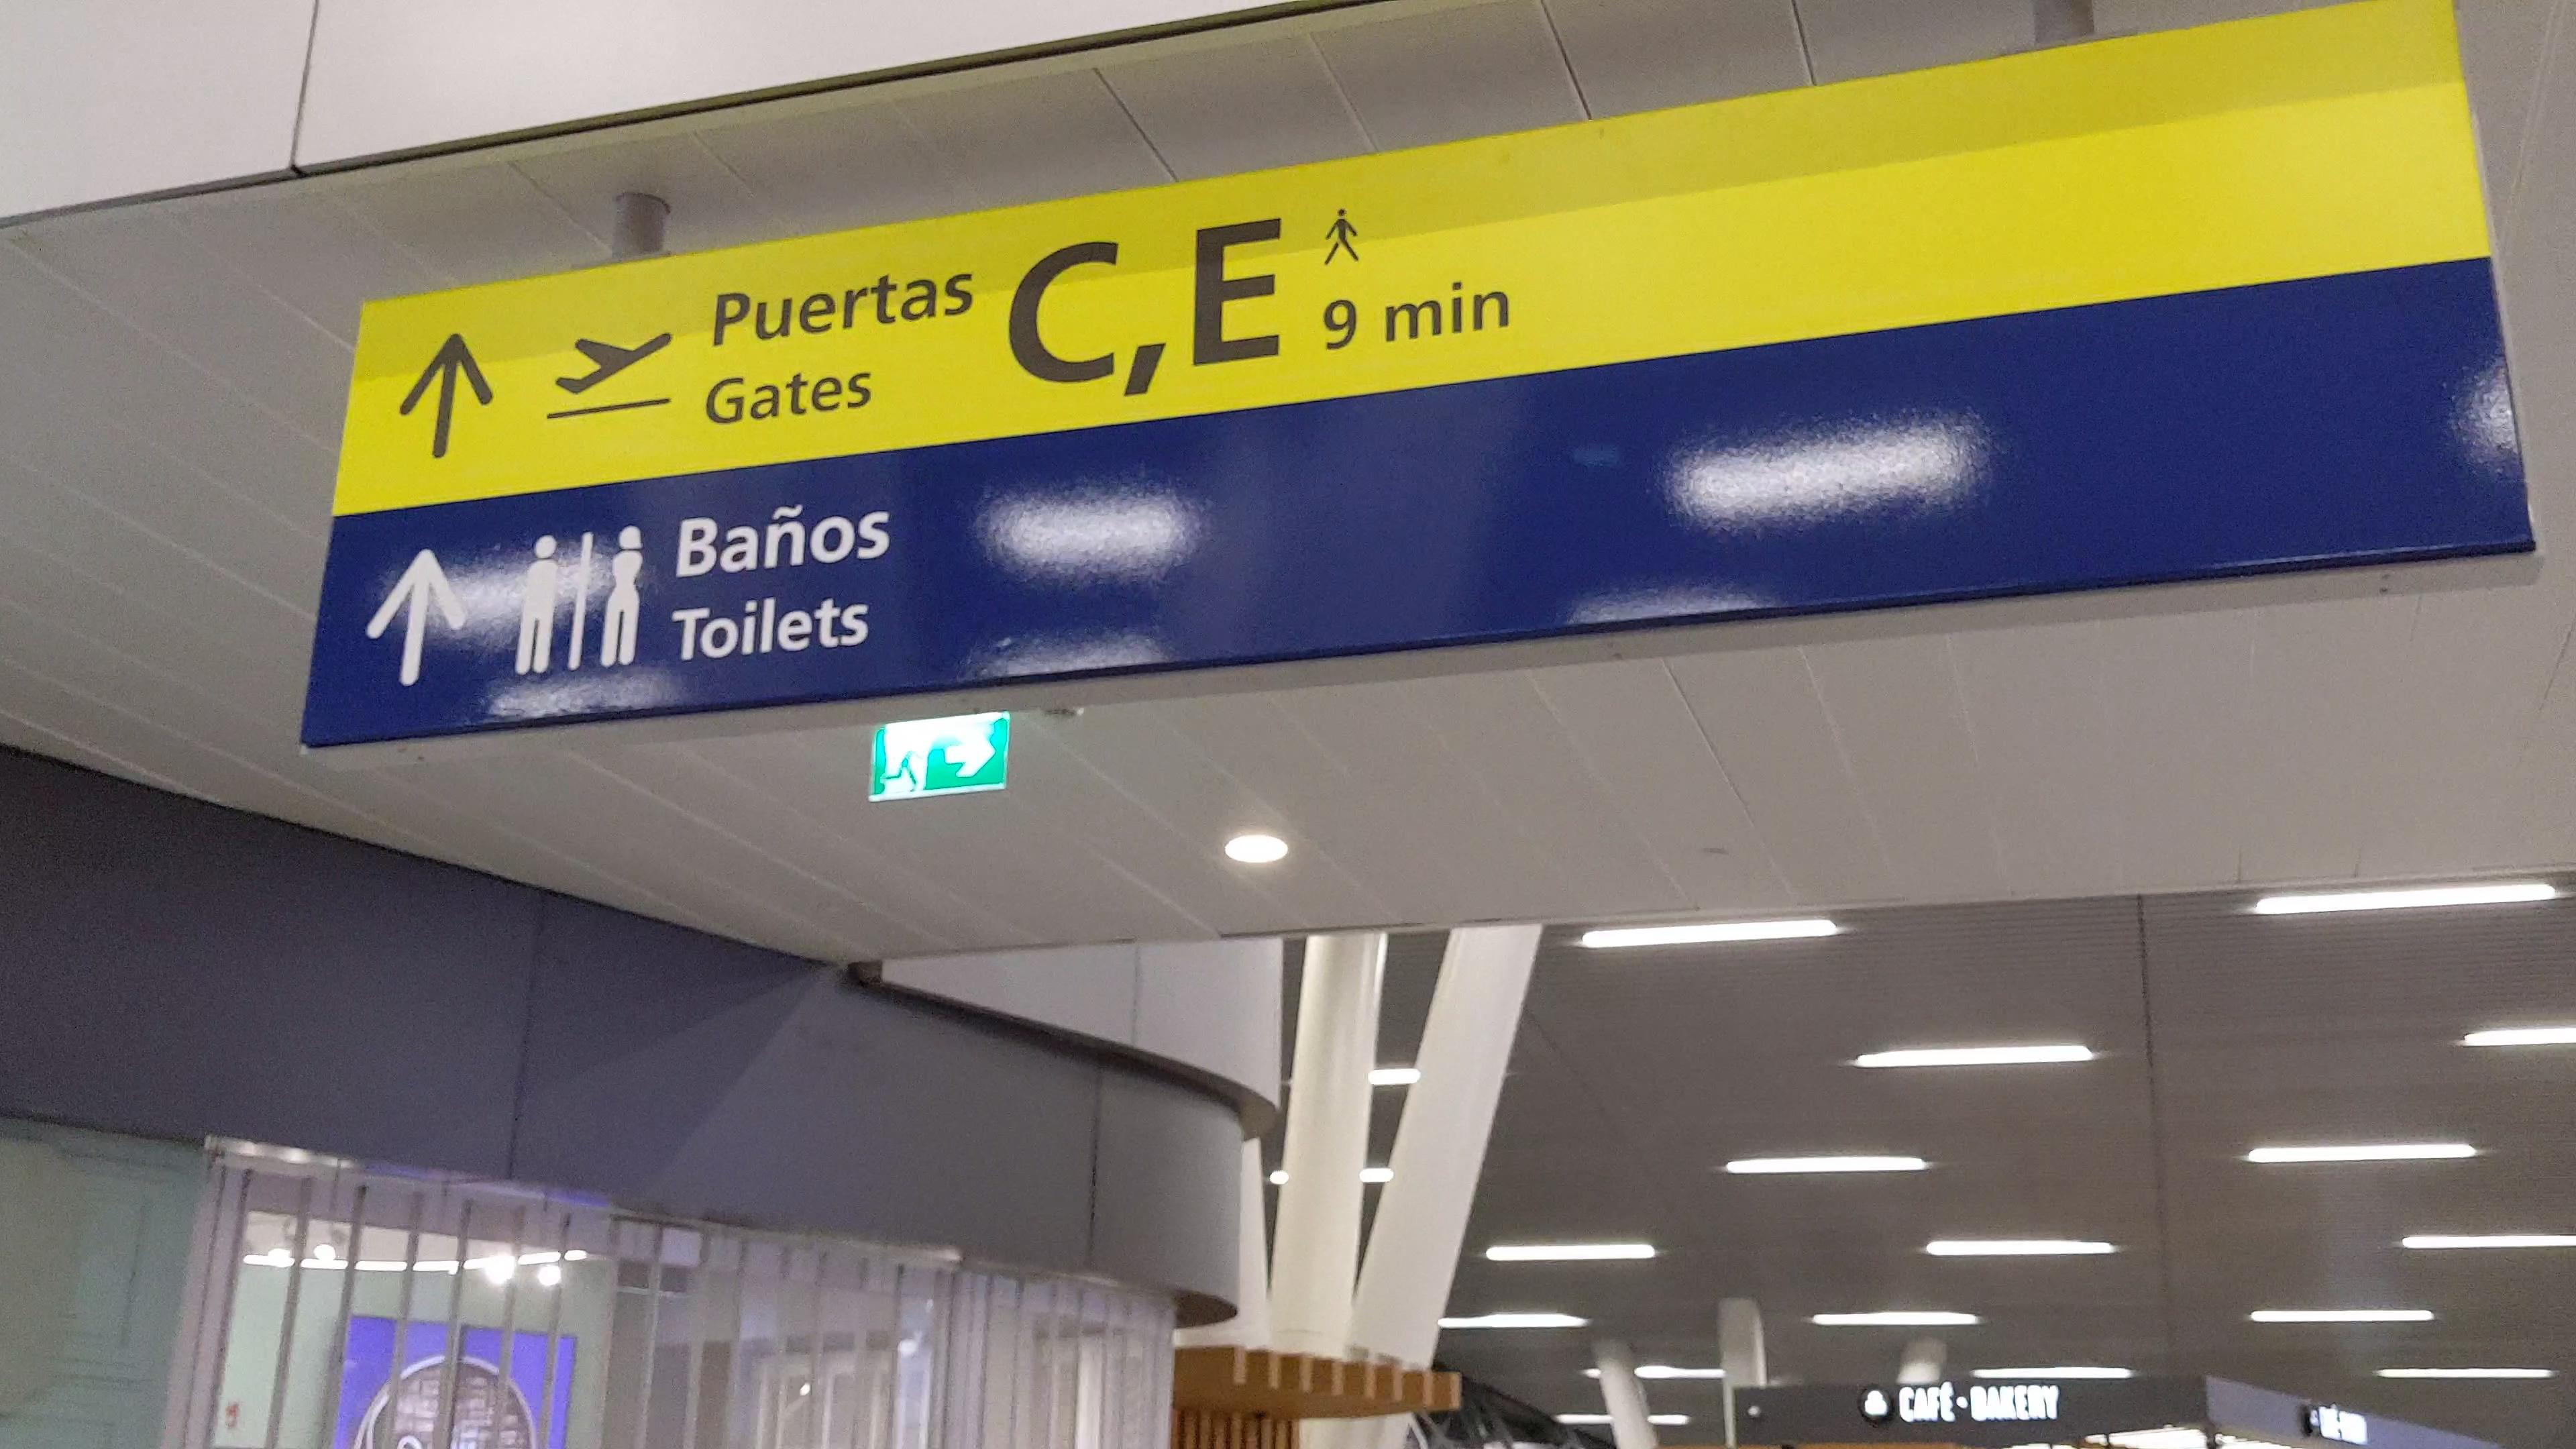airplane symbol: (543, 329, 686, 391)
bathrooms: (510, 524, 649, 681)
emergency exit: (941, 732, 998, 778)
emergency right arrow: (881, 734, 931, 796)
thin up arrow: (363, 547, 472, 695), (395, 327, 497, 465)
